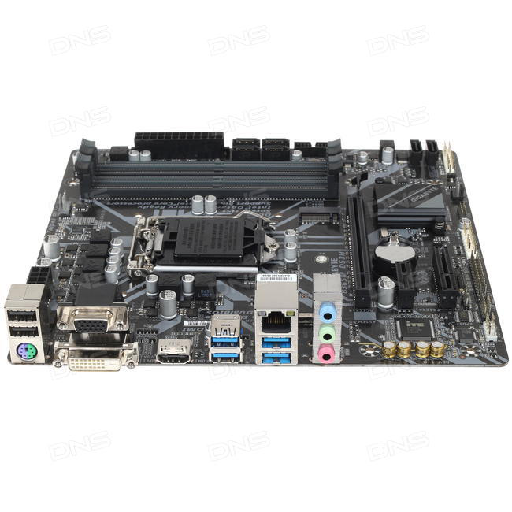CPU: (132, 211, 279, 275)
GPU: (346, 191, 375, 309)
MOTHERBOARD: (5, 121, 510, 375)
RAM: (74, 141, 345, 202)
SSD: (299, 203, 342, 226)
